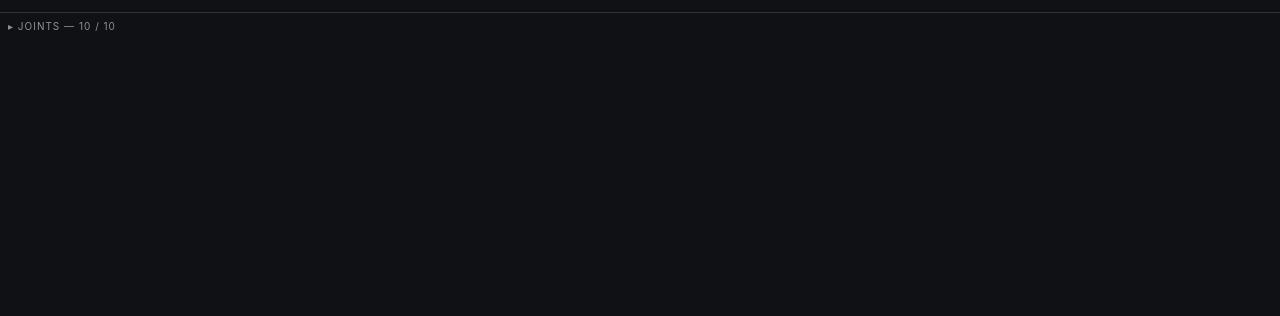
Test: a fully jointed cabinet renders as one collapsed group line
Click the button "▸ Joints — 10 / 10". click: (46, 26)
box: [8,13,1272,40]
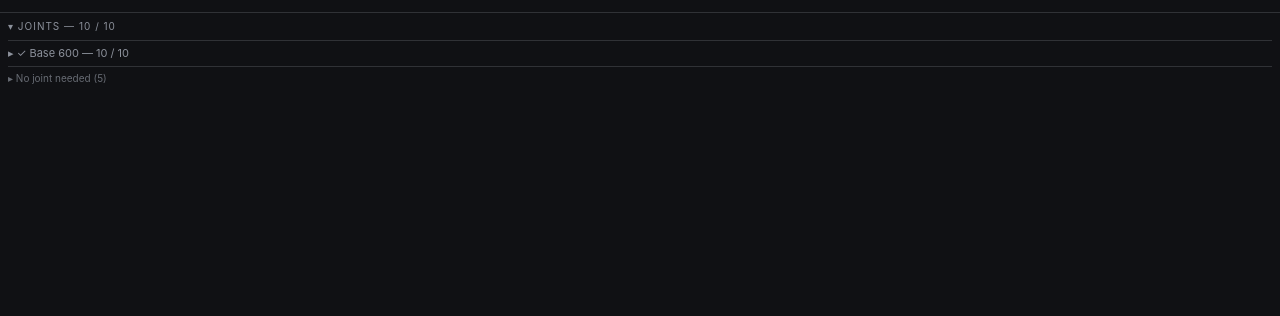
Expected: the text "Left Side + Bottom" is not shown
Result: the button "▸ ✓ Base 600 — 10 / 10" is shown
Click the button "▸ ✓ Base 600 — 10 / 10". click: (54, 53)
box: [8,41,1272,66]
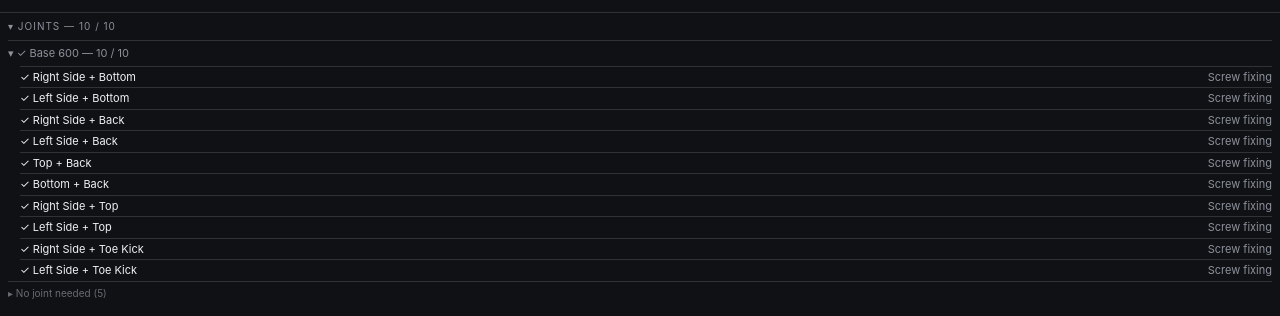
Result: the text "✓ Left Side + Bottom" is shown at [20,91,129,105]
